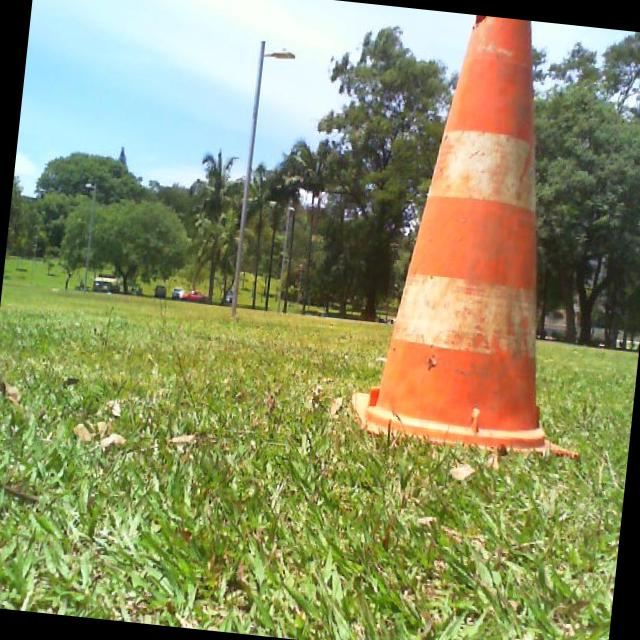Cone: (347, 6, 624, 457)
